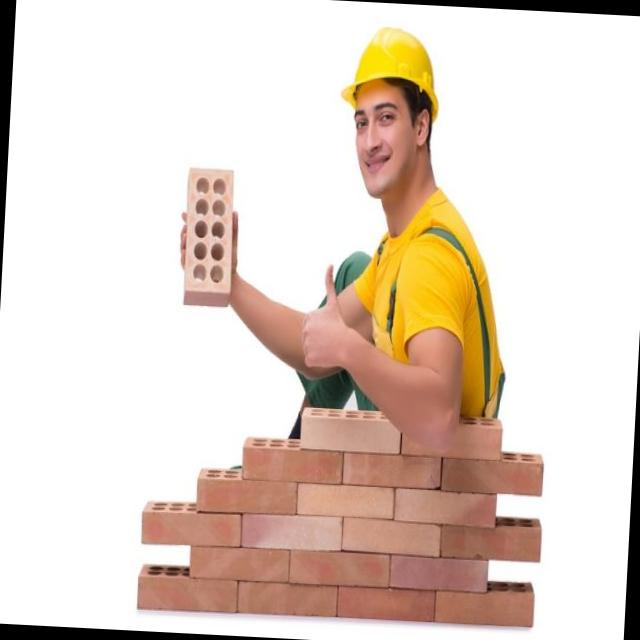Helmet: (342, 25, 449, 123)
